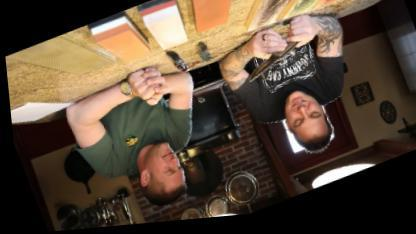knife: (228, 36, 315, 93)
